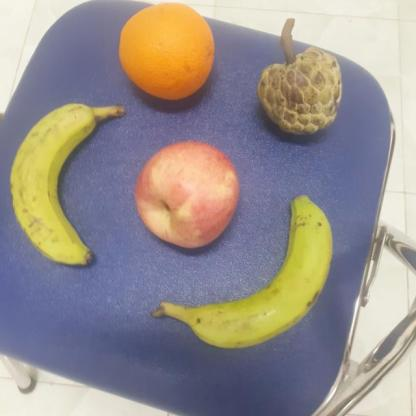annona: (253, 46, 345, 142)
apple: (131, 138, 243, 255)
banana: (141, 193, 334, 350), (3, 102, 124, 267)
orange: (114, 1, 216, 101)
